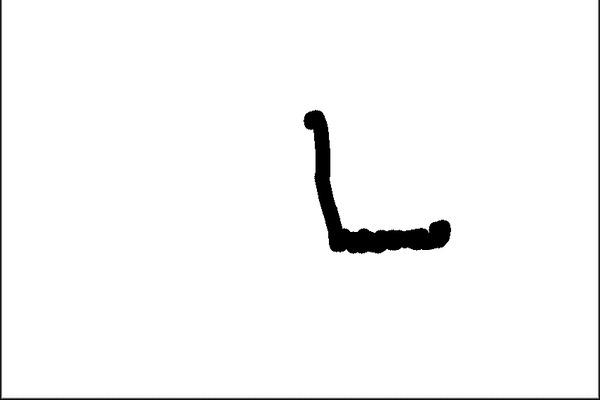L: (296, 102, 456, 261)
